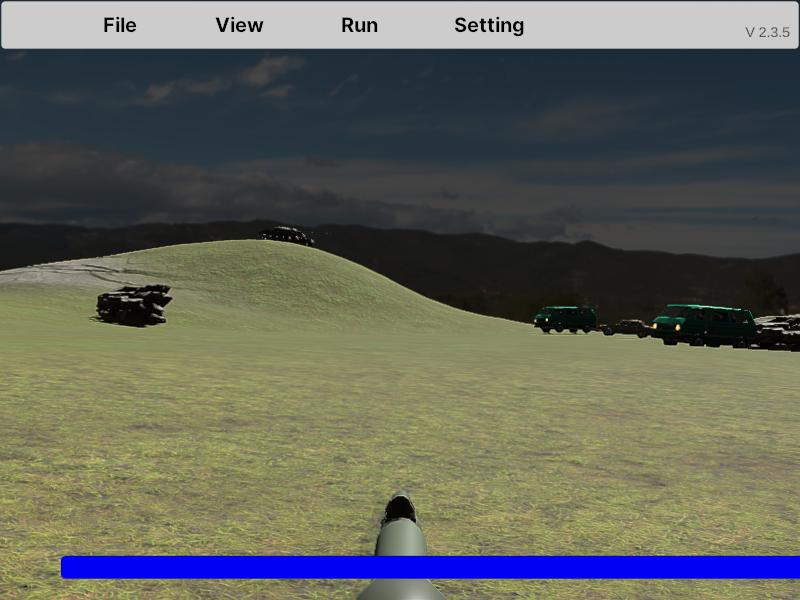car: (652, 305, 757, 349), (534, 306, 598, 334)
